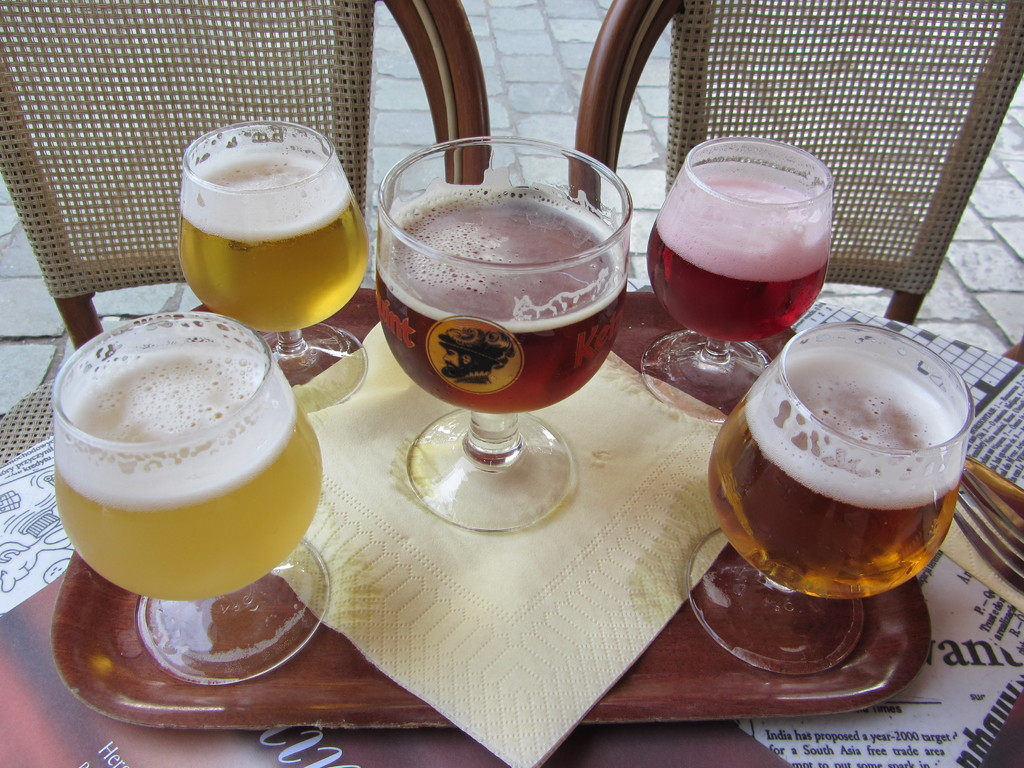Beer: (39, 314, 348, 698), (376, 133, 641, 538), (676, 321, 968, 677), (174, 115, 365, 410), (639, 131, 830, 424)
